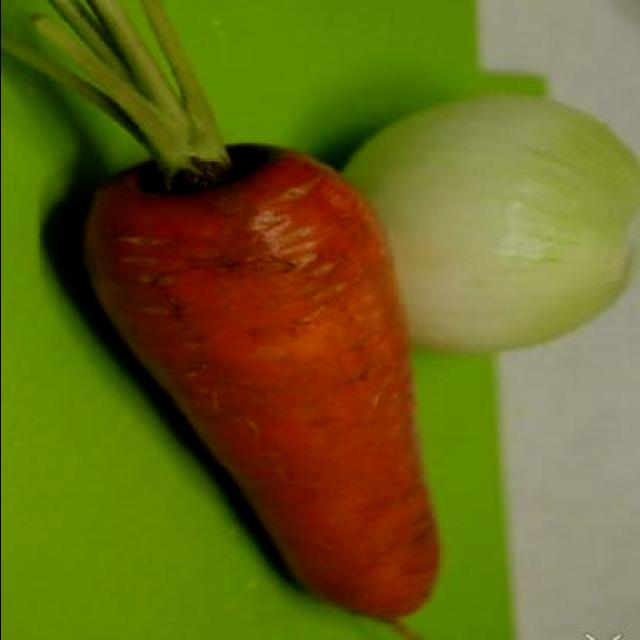carrot: (75, 139, 439, 636)
onion: (338, 90, 635, 358)
